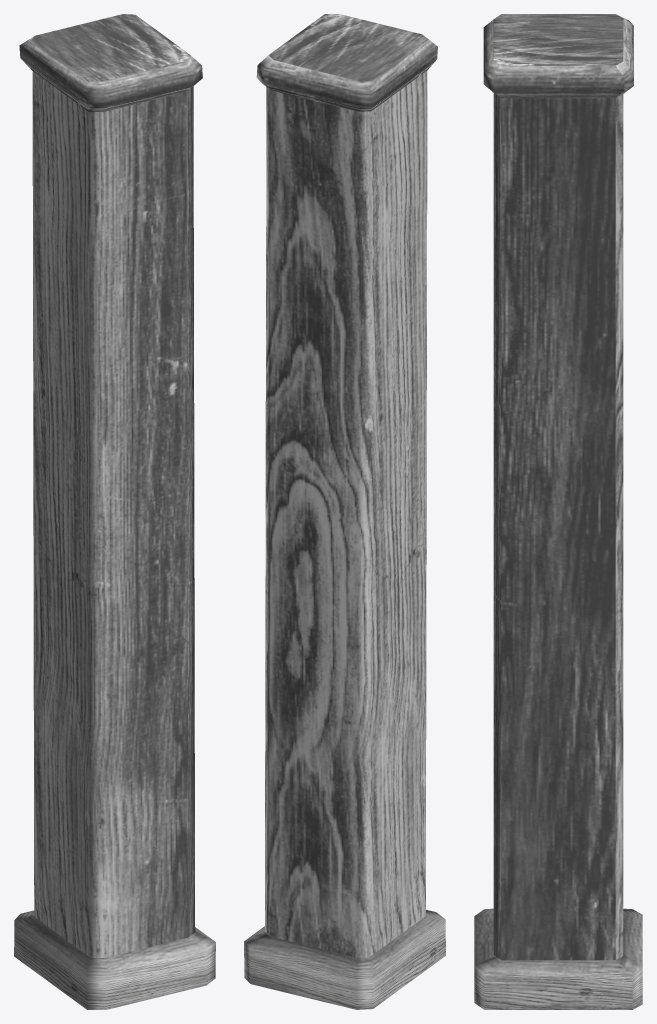
File: SM_Fence_A3.fbx
3 renders of one model, left to right at view 1: azimuth 30°, elevation 25°; view 2: azimuth 150°, elevation 25°; view 3: azimuth 270°, elevation 25°, orthographic.
Visible parts, largest first — view 1: SM_Fence_Pillar_A1; view 2: SM_Fence_Pillar_A1; view 3: SM_Fence_Pillar_A1.
Part boxes in pixels (x1,y1,x2,y2): SM_Fence_Pillar_A1: [14, 14, 215, 1009]; SM_Fence_Pillar_A1: [244, 14, 445, 1009]; SM_Fence_Pillar_A1: [474, 14, 642, 1009].
Bounding box in the file's own units: 10.4 × 11.57 × 70.89.
1 material, 1 textured.
